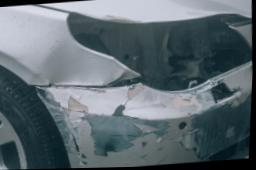Bumper: (37, 61, 253, 169)
Light: (70, 13, 253, 91)
